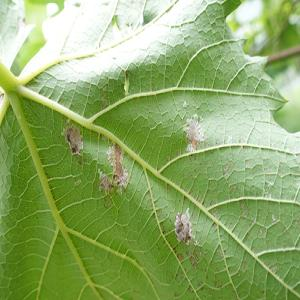Folha: (1, 0, 299, 299)
Fungo: (106, 142, 128, 194), (183, 113, 207, 151), (174, 207, 194, 245), (63, 119, 83, 156), (106, 142, 122, 174), (113, 162, 129, 191), (98, 168, 114, 195), (222, 158, 234, 180), (106, 144, 116, 166), (239, 200, 249, 218), (189, 254, 198, 270)
